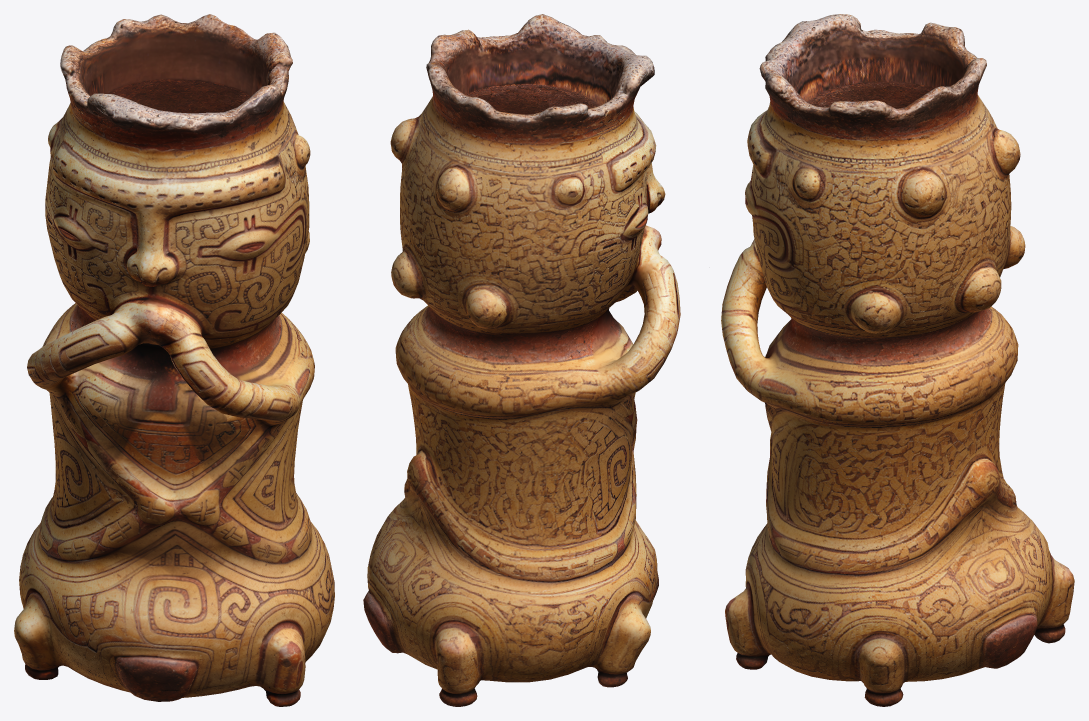
File: Tribal Ceramic Figure.glb
3 renders of one model, left to right at view 1: azimuth 30°, elevation 25°; view 2: azimuth 150°, elevation 25°; view 3: azimuth 270°, elevation 25°, orthographic. The views are drawn at different scales.
Parts seen in each view (by area): view 1: tripo_node_9e2d97b1-1cae-4676-ae5e-ff4ad9b8b341; view 2: tripo_node_9e2d97b1-1cae-4676-ae5e-ff4ad9b8b341; view 3: tripo_node_9e2d97b1-1cae-4676-ae5e-ff4ad9b8b341.
Boxes of the visible parts, x1,y1,x2,y2 form: tripo_node_9e2d97b1-1cae-4676-ae5e-ff4ad9b8b341: (14,14,334,706); tripo_node_9e2d97b1-1cae-4676-ae5e-ff4ad9b8b341: (363,14,680,706); tripo_node_9e2d97b1-1cae-4676-ae5e-ff4ad9b8b341: (721,14,1074,706).
Bounding box in the file's own units: 0.5005 × 0.9995 × 0.5601.
1 material, 1 textured.
